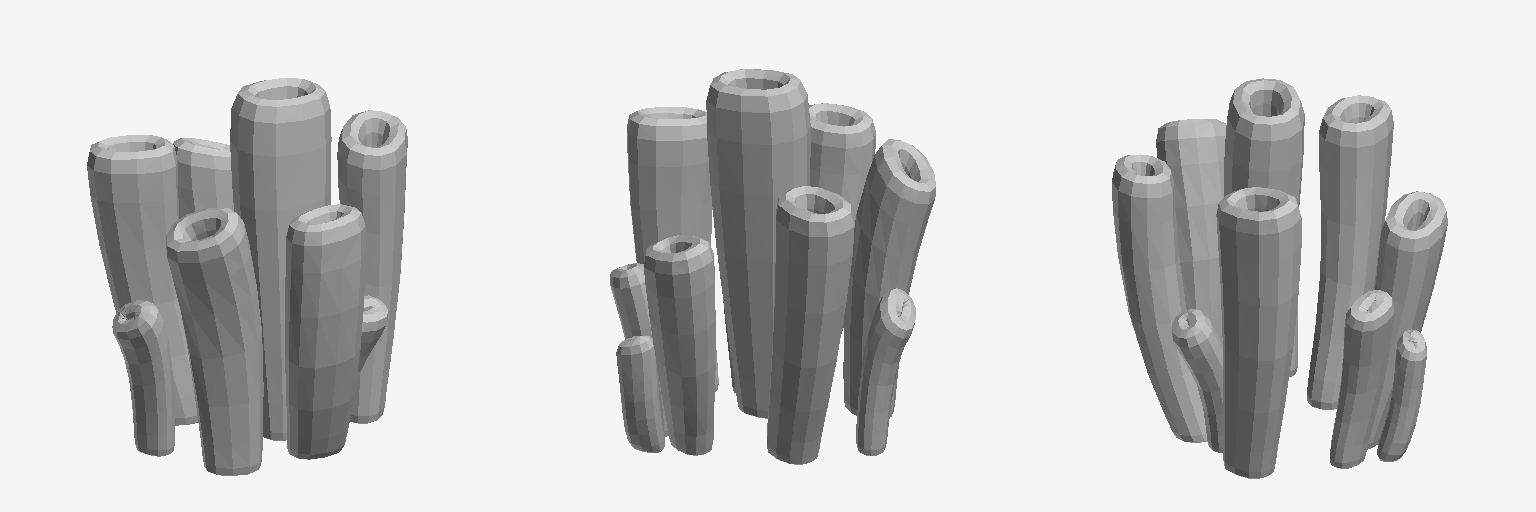
The model's file is Coral_D_03_LOD0.obj.
3 renders of one model, left to right at view 1: azimuth 30°, elevation 25°; view 2: azimuth 150°, elevation 25°; view 3: azimuth 270°, elevation 25°, orthographic.
Parts seen in each view (by area): view 1: Coral_D_03_LOD0_Cylinder.307; view 2: Coral_D_03_LOD0_Cylinder.307; view 3: Coral_D_03_LOD0_Cylinder.307.
Boxes of the visible parts, x1=… form: Coral_D_03_LOD0_Cylinder.307: x1=87, y1=78, x2=407, y2=475; Coral_D_03_LOD0_Cylinder.307: x1=610, y1=69, x2=935, y2=464; Coral_D_03_LOD0_Cylinder.307: x1=1112, y1=78, x2=1447, y2=478.
Size of the model in its own units: 4.2 by 4.8 by 4.3.